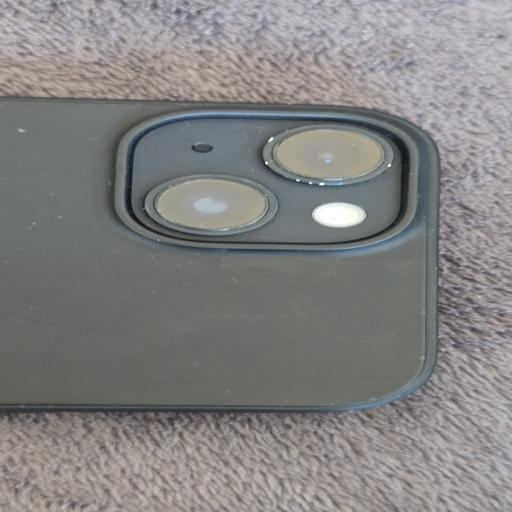phone: (6, 94, 443, 415)
